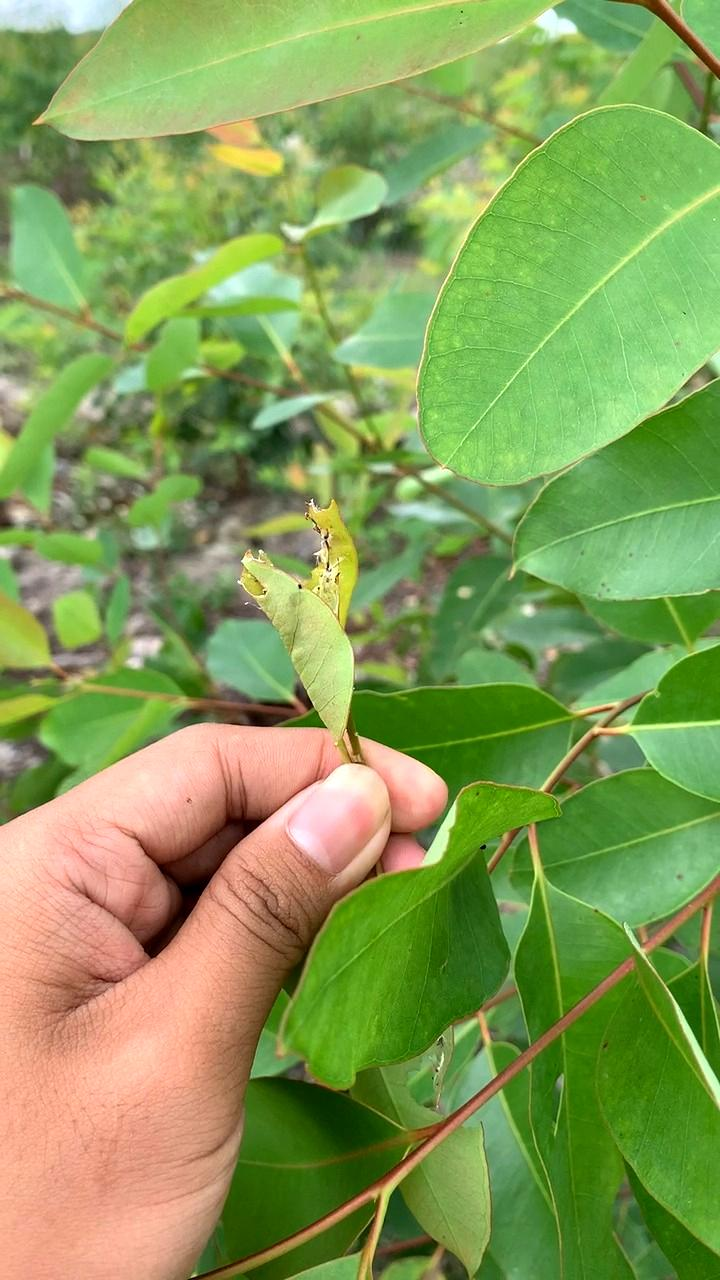Leaf Roller - Leaf: (225, 486, 393, 761)
